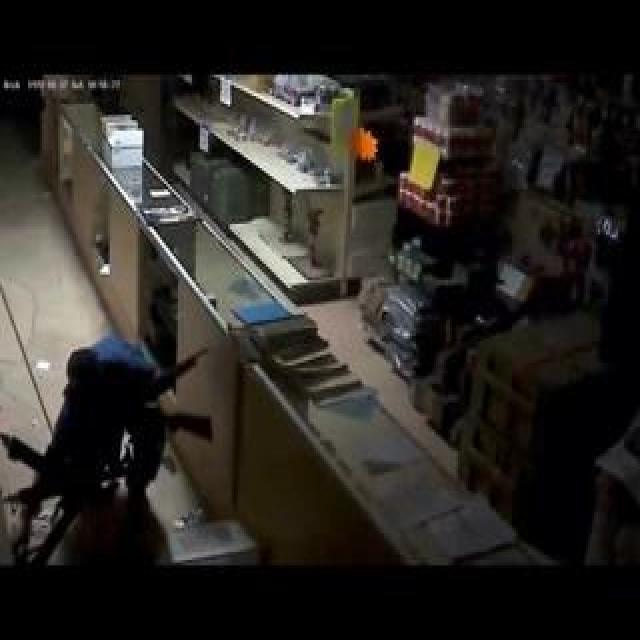thief: (44, 331, 188, 514)
